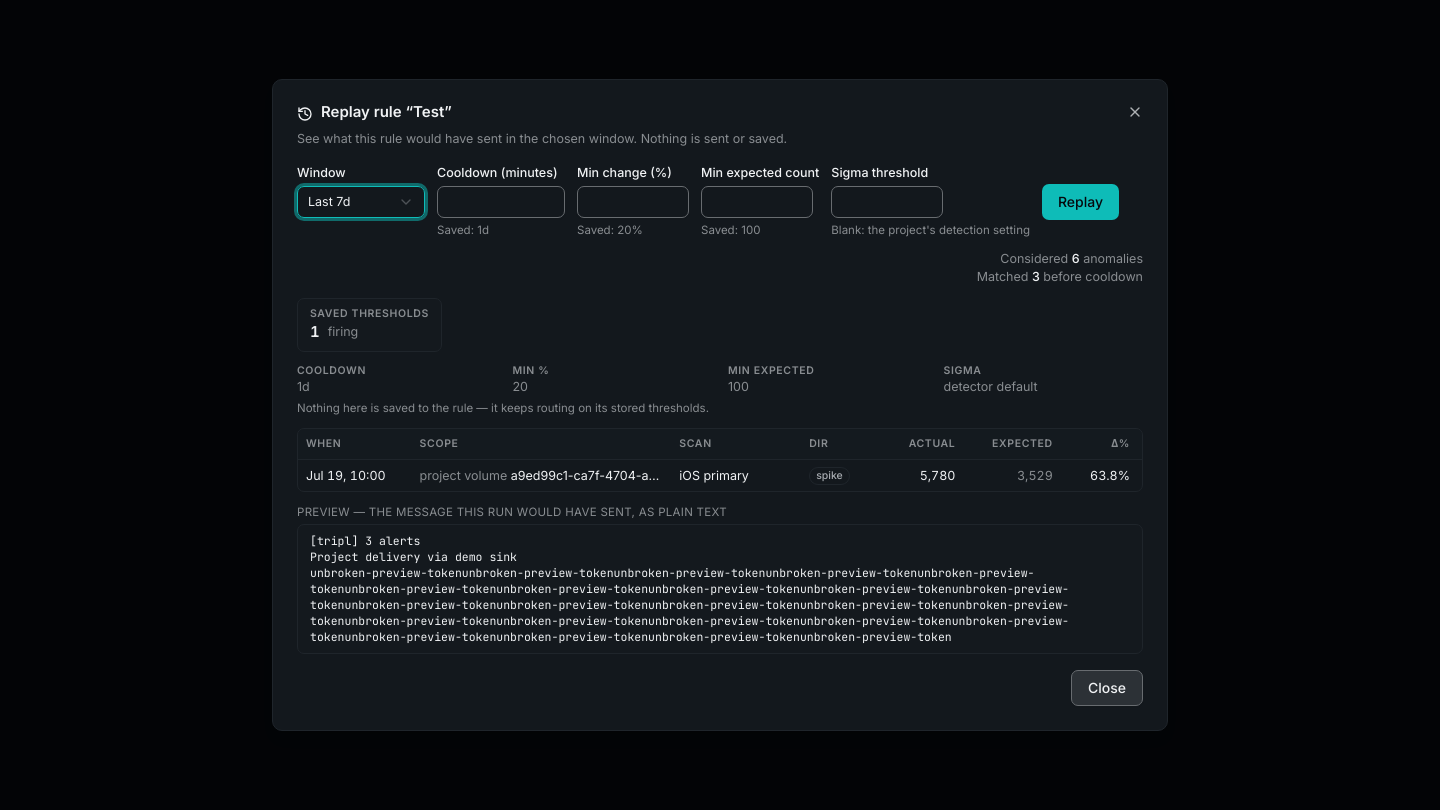
Scenario: RuleReplayDialog stale results (ALR-12) › says the result no longer matches once an override changes, until replayed again
This screenshot has width=1440, height=810.
Check: the text "Considered 6 anomalies" is shown, box [977,250,1143,268]
Check: the text "Settings changed since this replay" is not shown
Type "300" into the number field labelled "Min change (%)" at (633, 202), box [577,186,689,218]
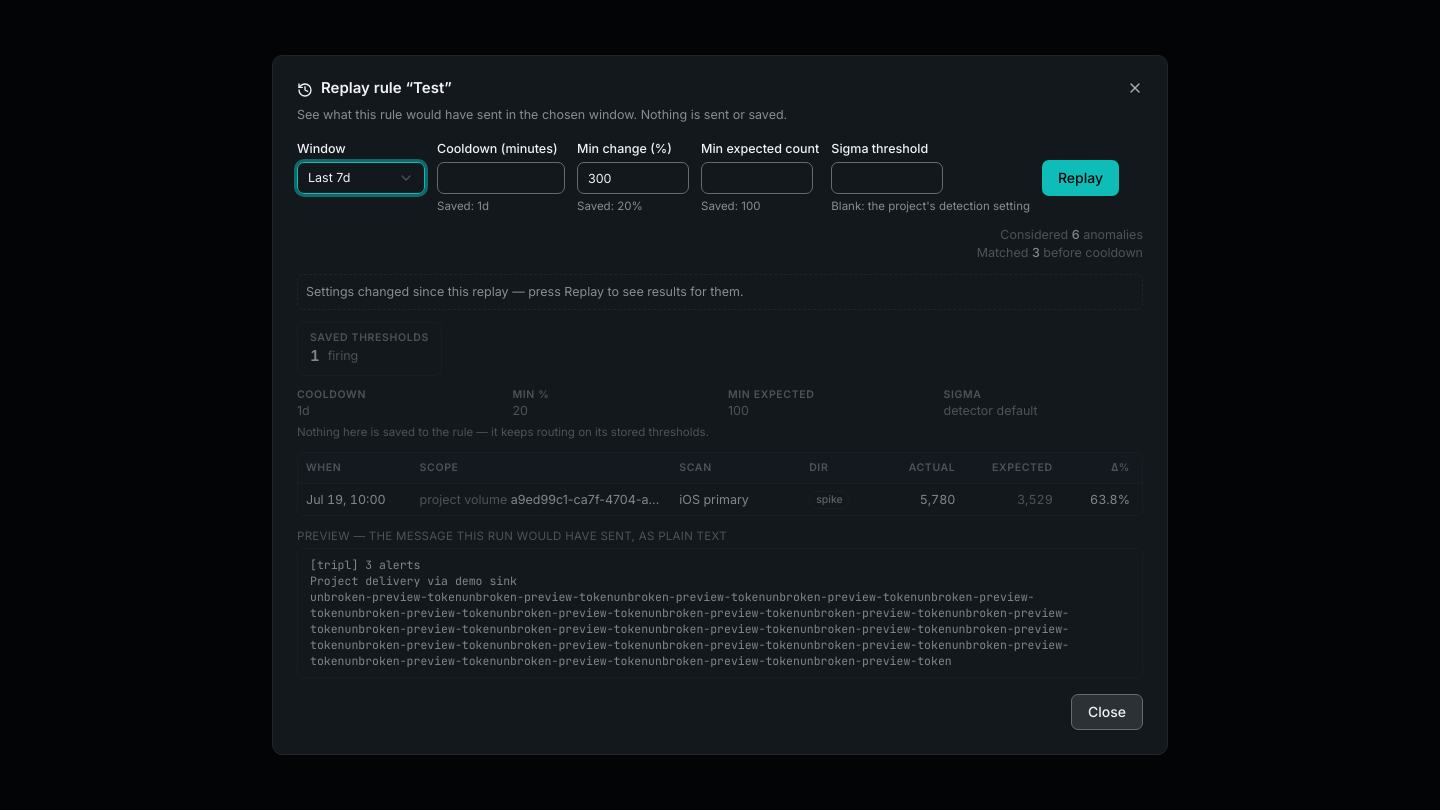
Check: the text "Settings changed since this replay — press Replay to see results for them." is shown, box [297,274,1143,310]
Click the button "Replay" at (1081, 178), box [1042,160,1119,196]
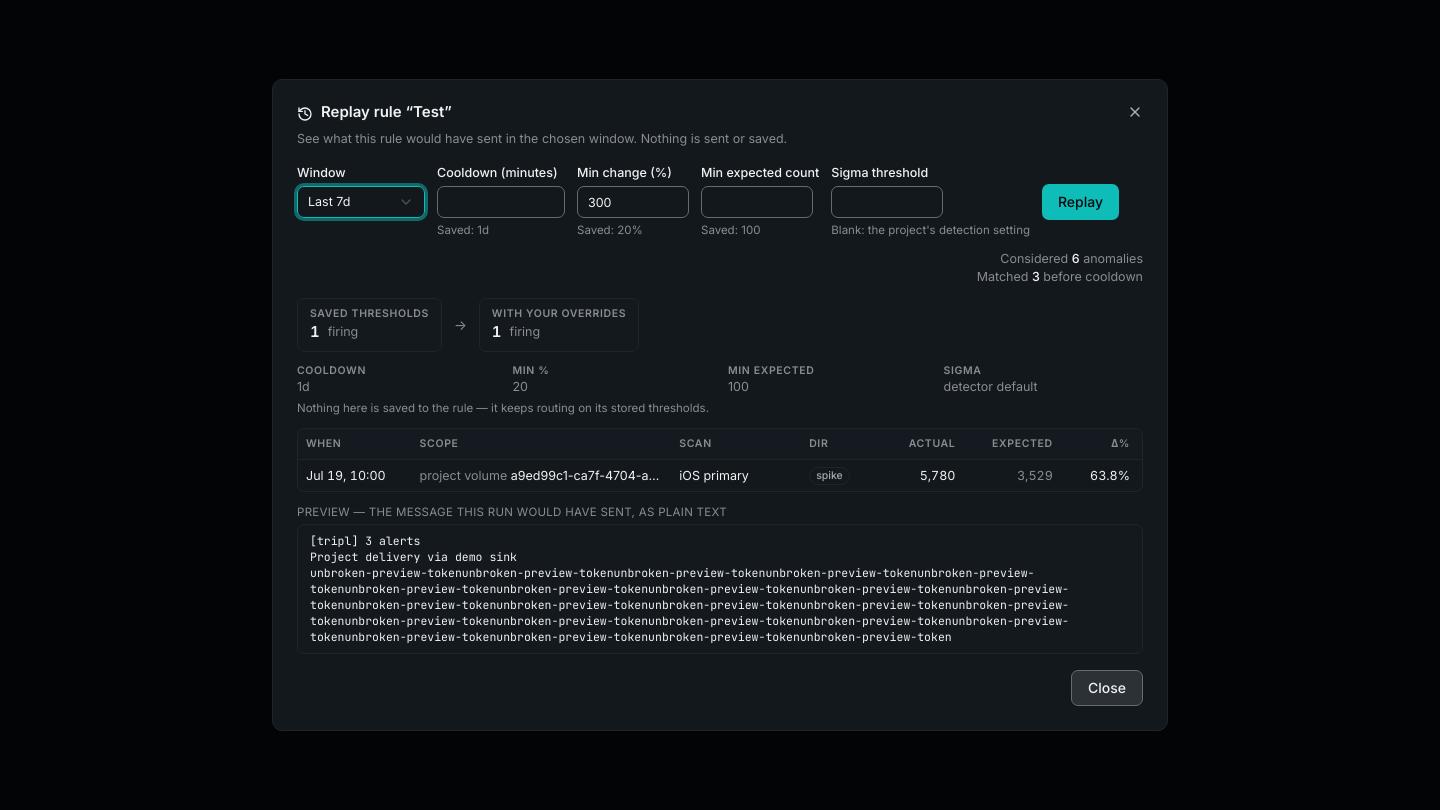
Check: the text "Settings changed since this replay" is gone
